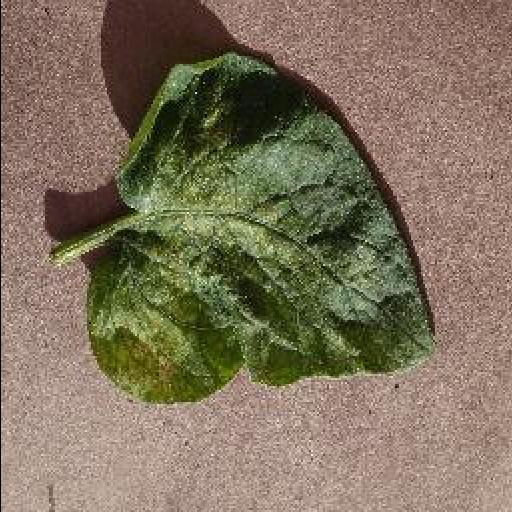disease_tomato: (82, 54, 438, 404)
